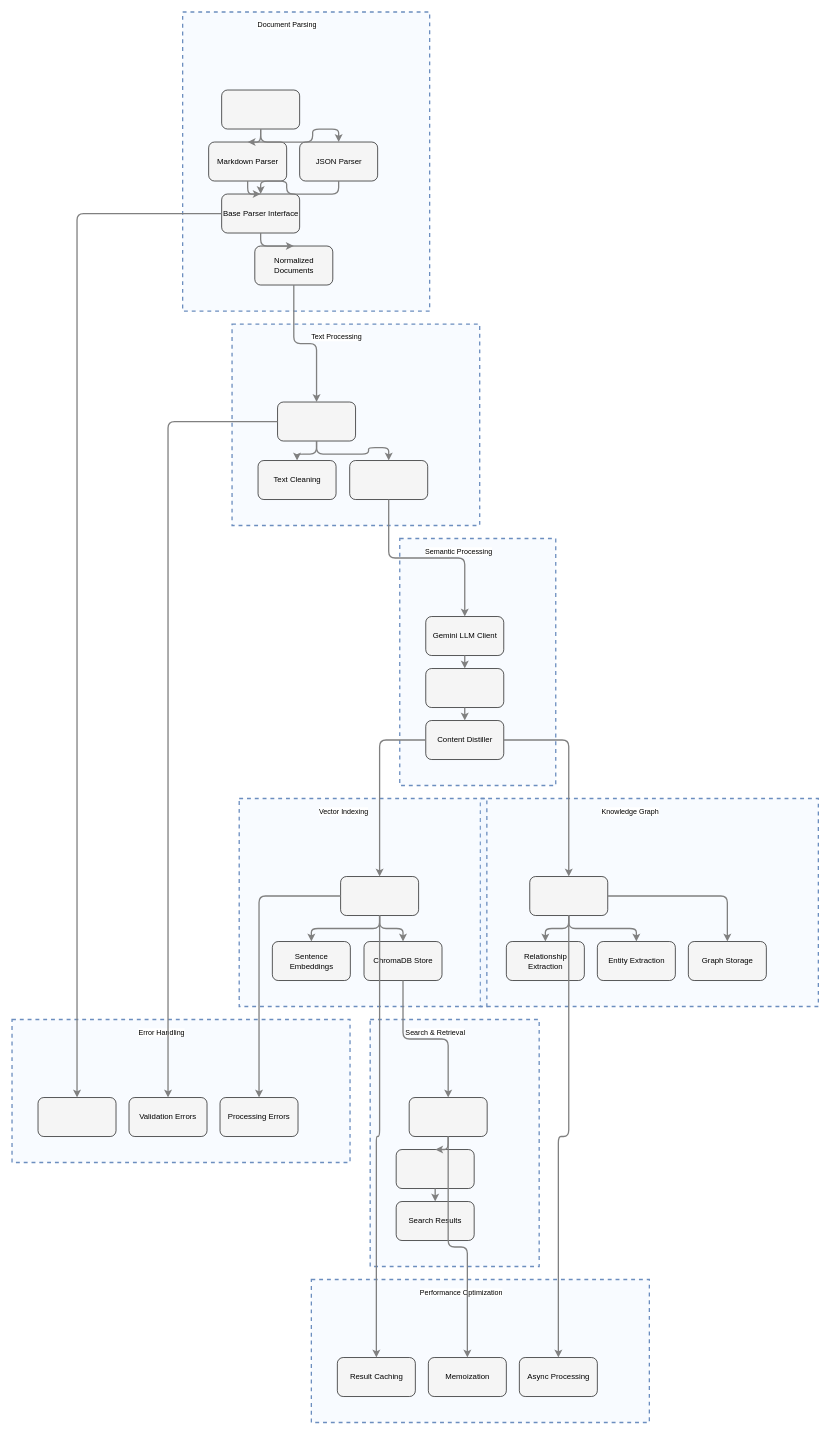
The diagram is 830 pixels wide and 1434 high, and some of its shapes have lost their labels. Here are the shapes that lost their labels. From the top down, the centre of each, then its label:
point (260, 109): Raw Documents
point (316, 421): Text Utils
point (388, 480): Text Chunking
point (464, 688): Semantic Summarization
point (379, 896): Vector Indexer
point (568, 896): Knowledge Graph Builder
point (76, 1117): Parsing Errors
point (448, 1117): Semantic Search
point (435, 1169): Relevance Scoring
